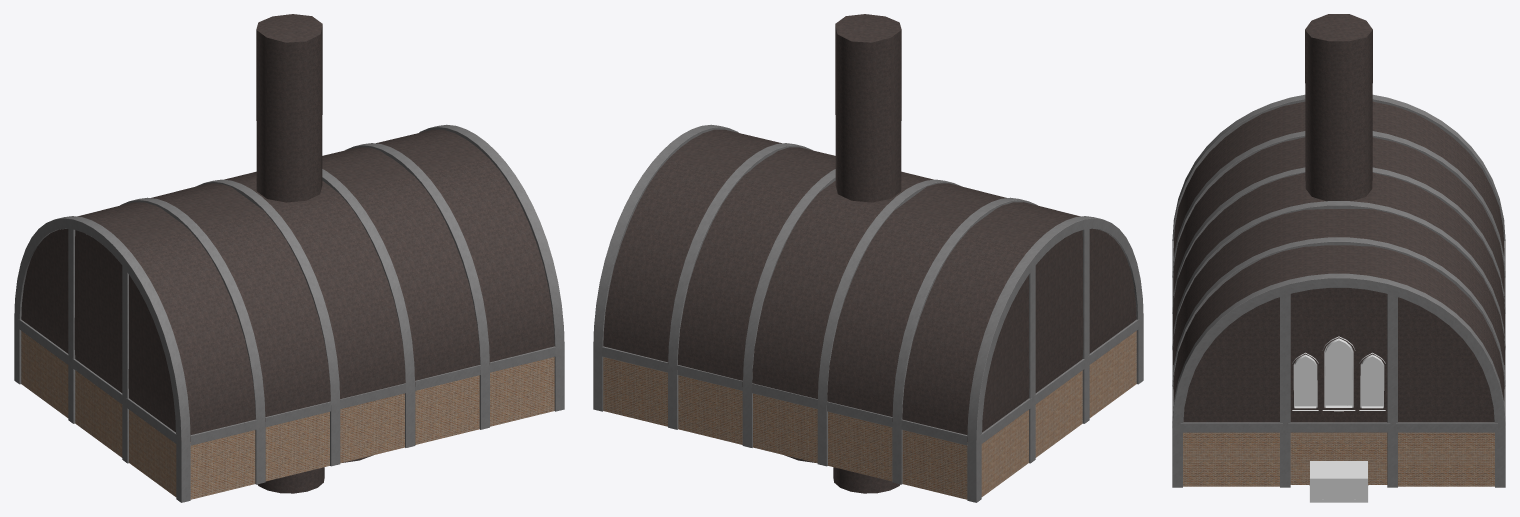
Rendered from Level_Geo_1.fbx.
3 views of the same model, side by side, from view 1: azimuth 30°, elevation 25°; view 2: azimuth 150°, elevation 25°; view 3: azimuth 270°, elevation 25° (orthographic).
Parts seen in each view (by area): view 1: CeilingFloorStone_UVd, SteelBeams_UVd, BrickWalls_UVd; view 2: CeilingFloorStone_UVd, SteelBeams_UVd, BrickWalls_UVd; view 3: CeilingFloorStone_UVd, SteelBeams_UVd, BrickWalls_UVd, WindowBig_UVd, EntranceWalls_UVd, WindowFrames_UVd.
Part boxes in pixels (x1,y1,x2,y2): CeilingFloorStone_UVd: (21,14,554,493); SteelBeams_UVd: (14,124,564,502); BrickWalls_UVd: (21,331,554,499); CeilingFloorStone_UVd: (603,14,1136,493); SteelBeams_UVd: (593,124,1143,502); BrickWalls_UVd: (603,331,1136,499); CeilingFloorStone_UVd: (1172,14,1505,485); SteelBeams_UVd: (1172,94,1505,487); BrickWalls_UVd: (1183,432,1494,486); WindowBig_UVd: (1293,340,1384,407); EntranceWalls_UVd: (1310,461,1367,502); WindowFrames_UVd: (1292,336,1385,411).
Size of what is drawn, in the model's own units: 8872 by 9260 by 6200.
